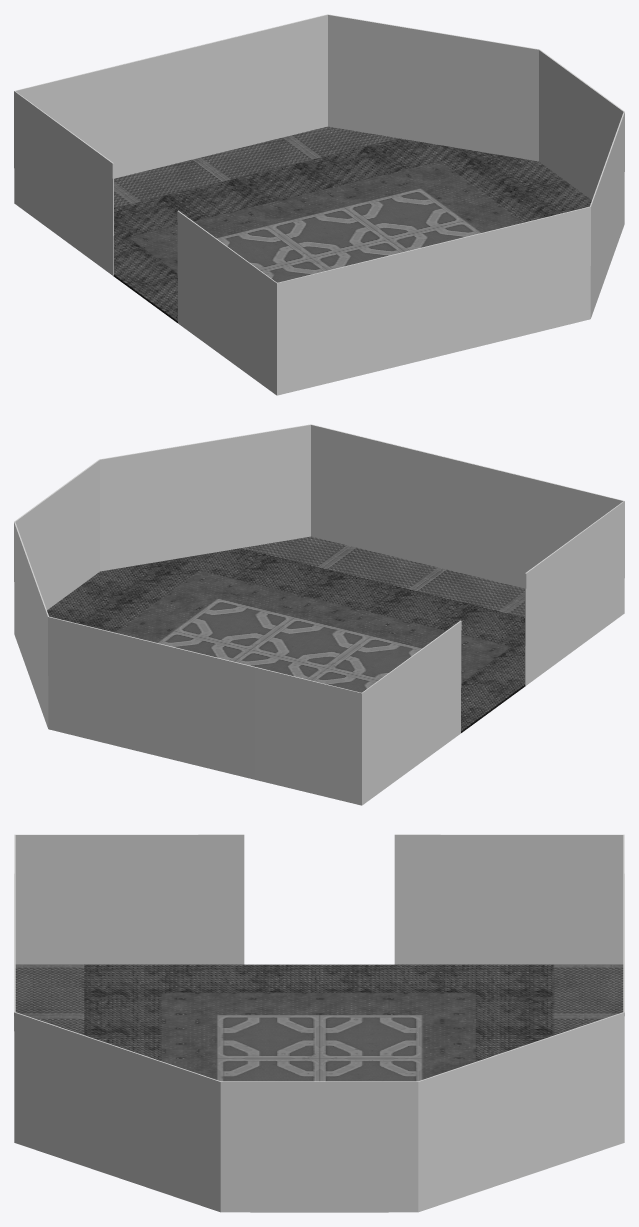
Rendered from final_room.fbx.
3 views of the same model, one above another, from view 1: azimuth 30°, elevation 25°; view 2: azimuth 150°, elevation 25°; view 3: azimuth 270°, elevation 25° (orthographic). The views are drawn at different scales.
Parts seen in each view (by area): view 1: final room; view 2: final room; view 3: final room.
Part boxes in pixels (x1,y1,x2,y2): final room: (14, 14, 624, 395); final room: (14, 424, 624, 805); final room: (14, 834, 624, 1212).
Bounding box in the file's own units: 1475 × 364 × 1538.
